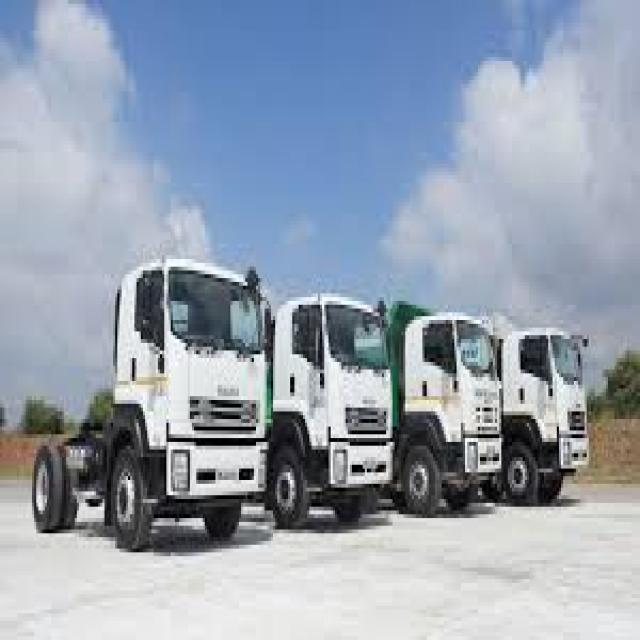Heavy Duty Truck: (32, 259, 271, 549), (273, 278, 395, 533), (388, 309, 504, 514), (503, 316, 589, 511)
